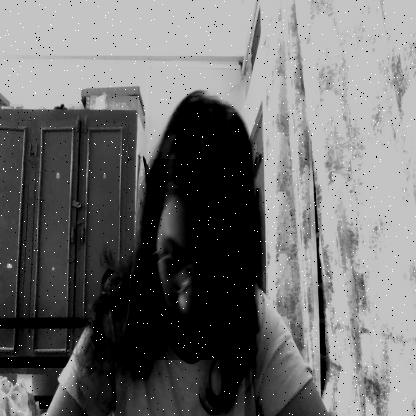Distracted: (150, 159, 244, 360)
